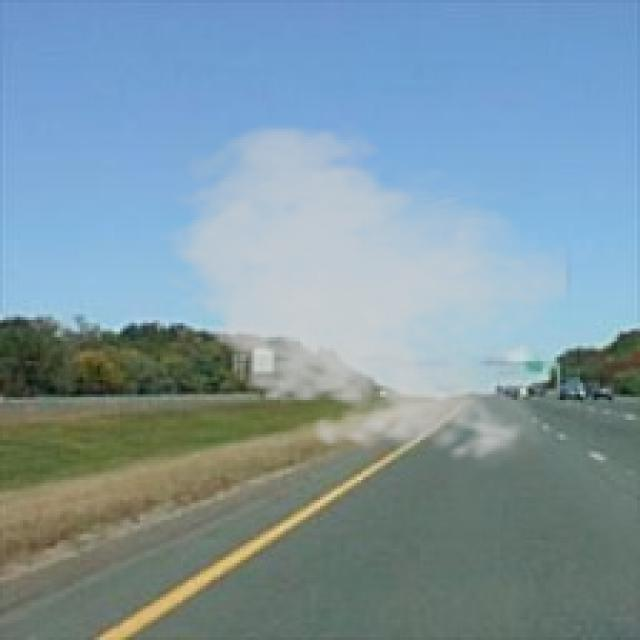smoke: (154, 117, 572, 472)
